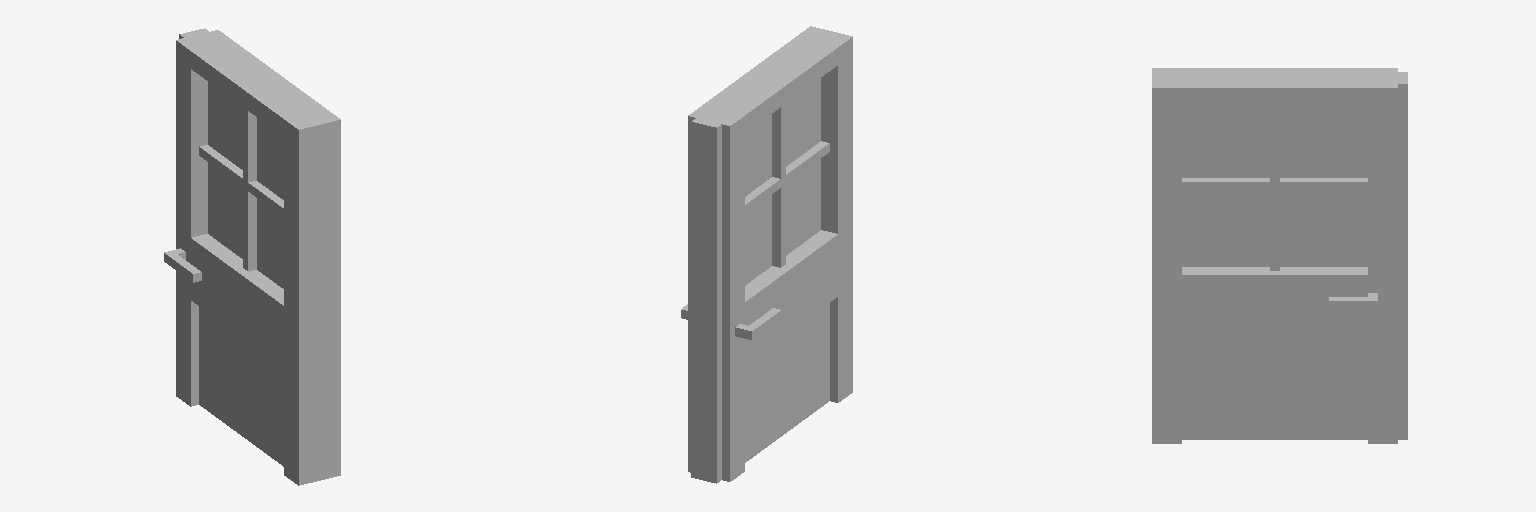
Rendered from door.obj.
3 renders of one model, left to right at view 1: azimuth 30°, elevation 25°; view 2: azimuth 150°, elevation 25°; view 3: azimuth 270°, elevation 25°, orthographic.
Visible parts, largest first — view 1: object 1; view 2: object 1; view 3: object 1.
Boxes of the visible parts, box(x1,y1,x2,y2) form: object 1: box(164, 28, 340, 485); object 1: box(681, 26, 852, 483); object 1: box(1152, 68, 1407, 443).
Bounding box in the file's own units: 0.9 × 4 × 2.6.